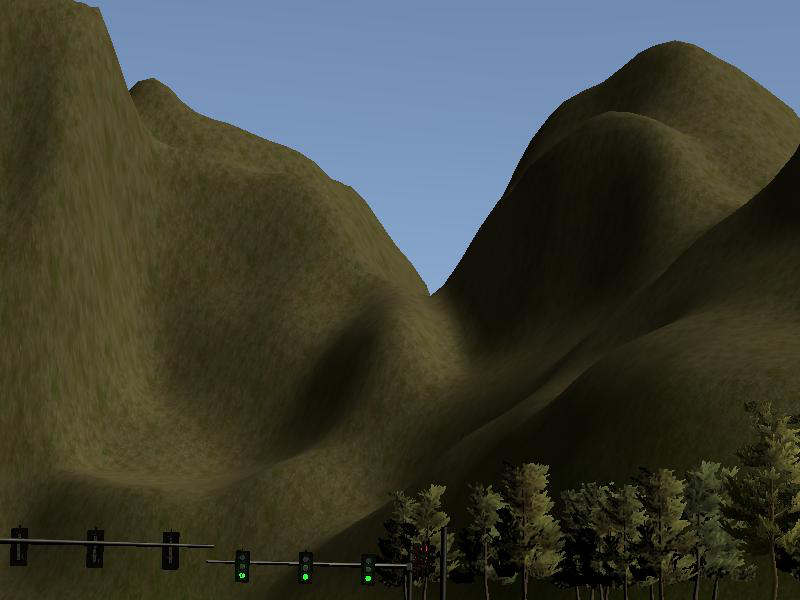green: (360, 552, 377, 586), (298, 549, 313, 586), (235, 549, 251, 581)
